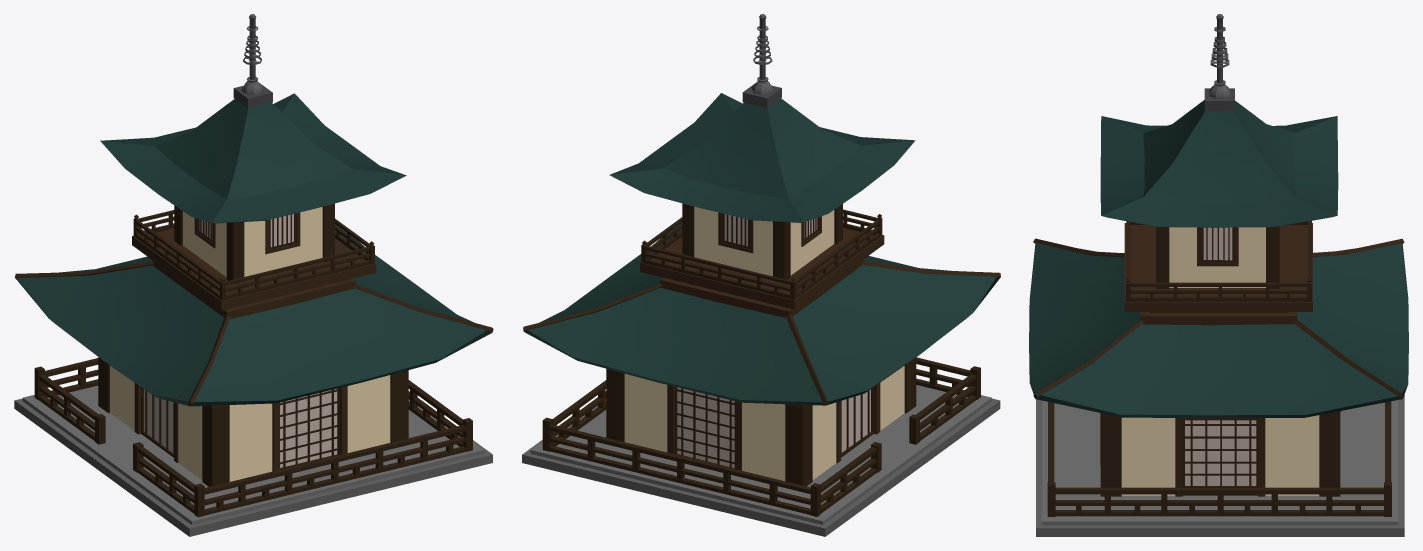
The model's file is houme07  2.fbx.
3 views of the same model, side by side, from view 1: azimuth 30°, elevation 25°; view 2: azimuth 150°, elevation 25°; view 3: azimuth 270°, elevation 25° (orthographic). The views are drawn at different scales.
Parts seen in each view (by area): view 1: houme7_2, foundation_7_2, fence_7_1_2, fence_7_2_2; view 2: houme7_2, foundation_7_2, fence_7_1_2, fence_7_2_2; view 3: houme7_2, foundation_7_2, fence_7_1_2, fence_7_2_2.
Part boxes in pixels (box(x1,y1,x2,y2)): houme7_2: box(15, 14, 493, 486); foundation_7_2: box(14, 385, 492, 536); fence_7_1_2: box(34, 358, 472, 517); fence_7_2_2: box(133, 210, 374, 300); houme7_2: box(523, 14, 1000, 486); foundation_7_2: box(522, 385, 1000, 536); fence_7_1_2: box(542, 357, 980, 516); fence_7_2_2: box(641, 209, 882, 299); houme7_2: box(1029, 14, 1408, 496); foundation_7_2: box(1036, 394, 1404, 536); fence_7_1_2: box(1047, 401, 1391, 516); fence_7_2_2: box(1126, 221, 1311, 301).
Size of the model in its own units: 1377 by 1776 by 1377.
